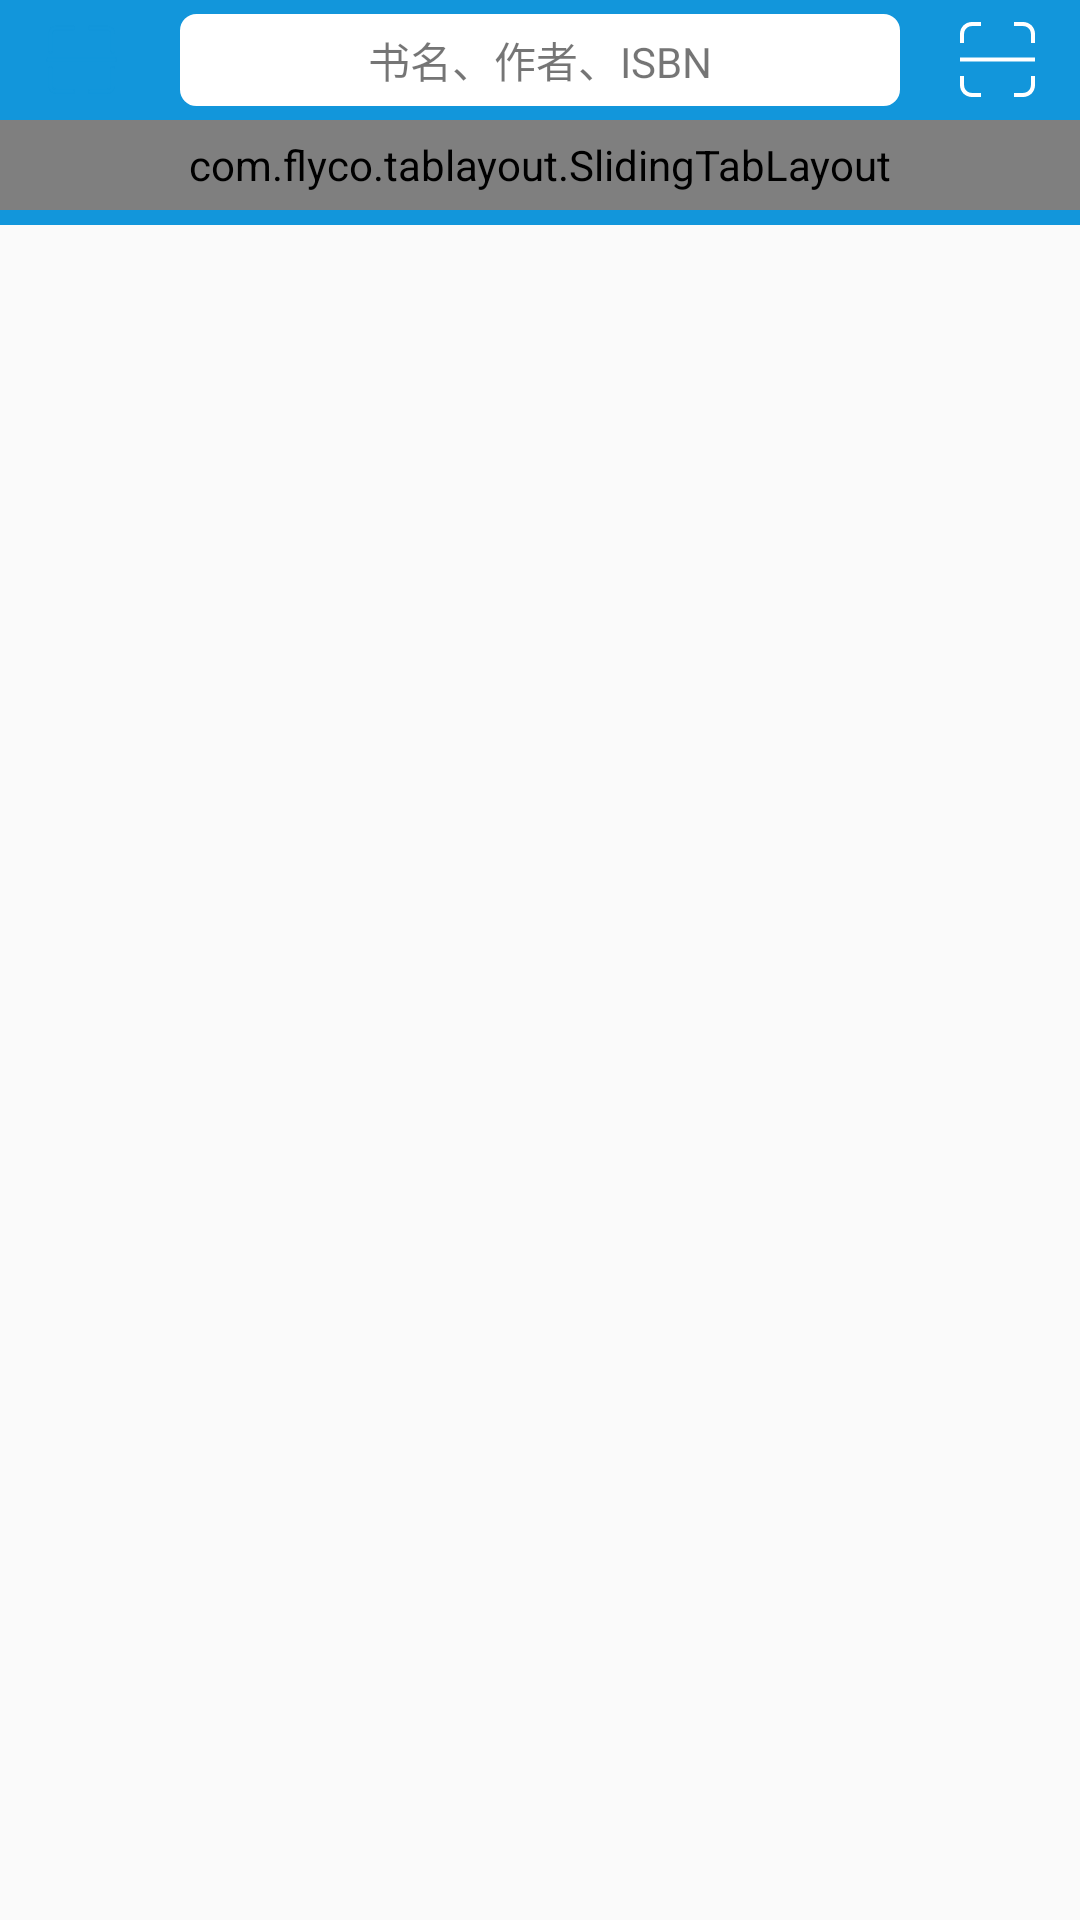

Icons on this 1080w x 1920h Android screen, each with its box as BBox(x1, y1, x2, y2):
scan: BBox(960, 22, 1035, 97)
